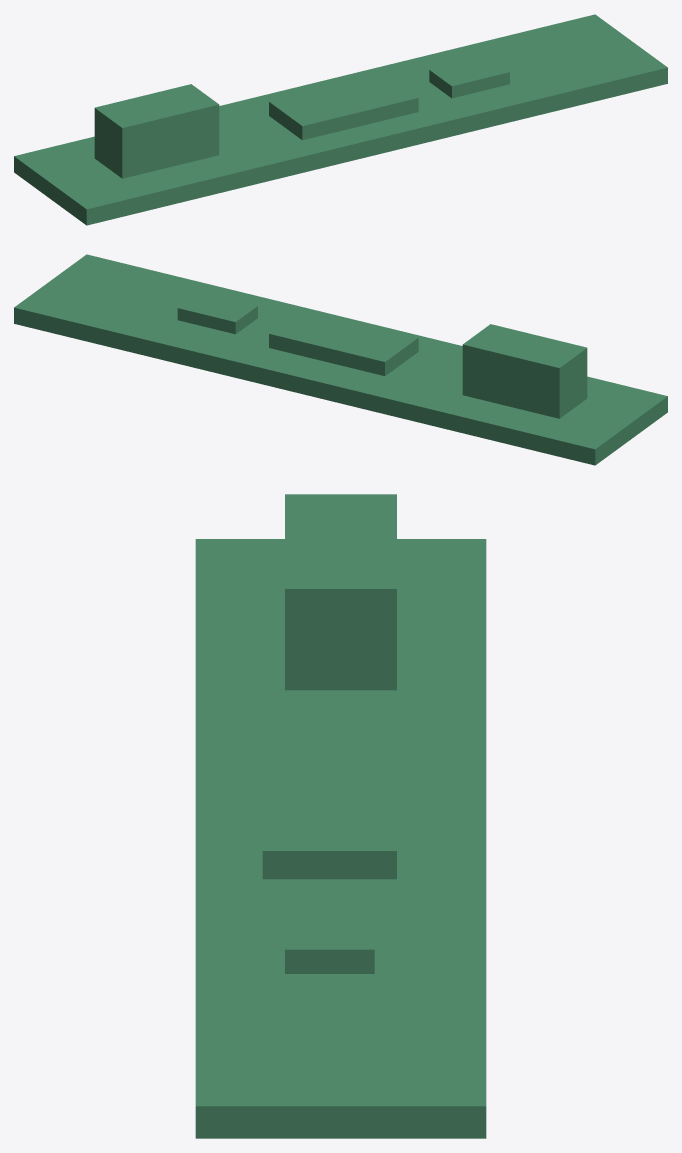
Rendered from esp2025_p10_main_pcb.glb.
3 renders of one model, top to bottom at view 1: azimuth 30°, elevation 25°; view 2: azimuth 150°, elevation 25°; view 3: azimuth 270°, elevation 25°, orthographic. The views are drawn at different scales.
Visible parts, largest first — view 1: main circuit board; view 2: main circuit board; view 3: main circuit board.
Part boxes in pixels (left/top/right/bottom): main circuit board: left=14, top=14, right=667, bottom=225; main circuit board: left=14, top=254, right=667, bottom=465; main circuit board: left=195, top=494, right=486, bottom=1138.
Bounding box in the file's own units: 60 × 6.6 × 13.
